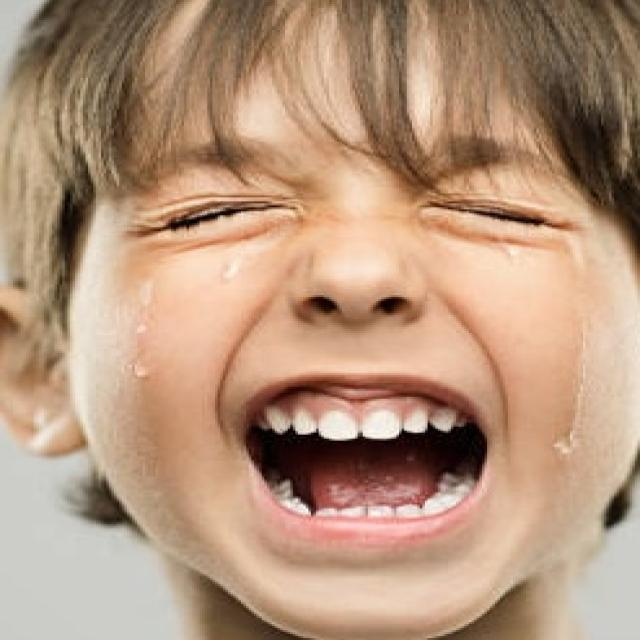Anxiety: (63, 0, 637, 638)
